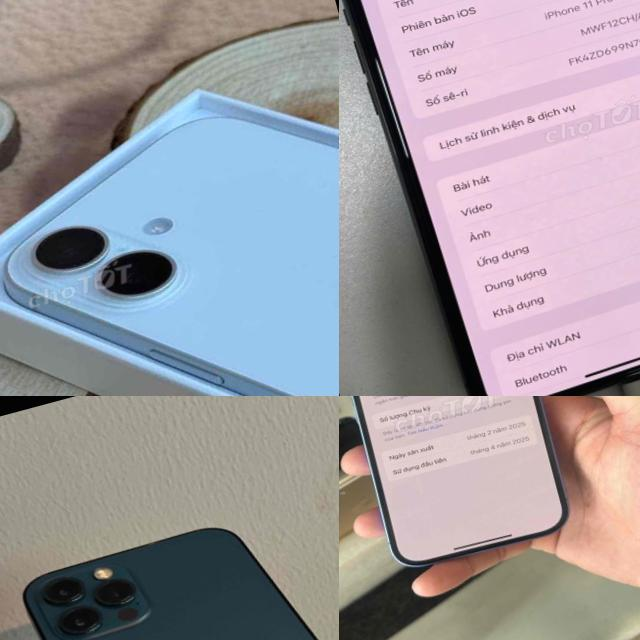gen_11: (339, 0, 640, 396)
gen_12_13: (12, 481, 339, 640)
gen_16: (351, 396, 567, 565)
gen_17: (0, 67, 339, 396)
